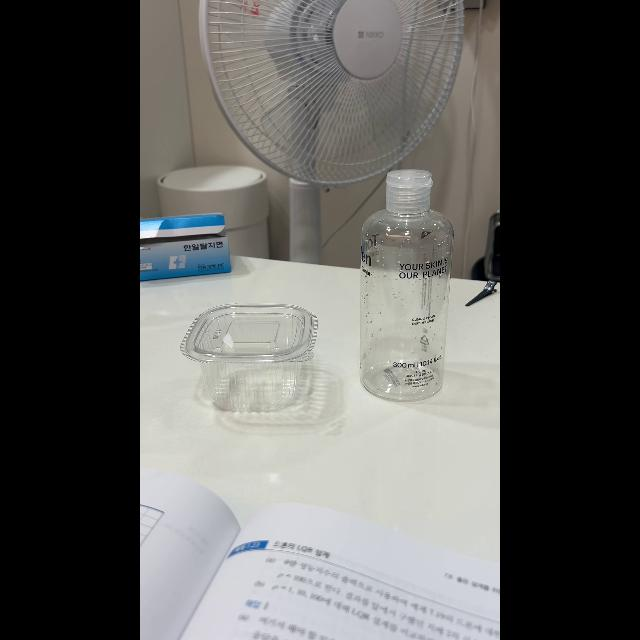clean: (358, 171, 452, 395), (181, 302, 319, 413)
